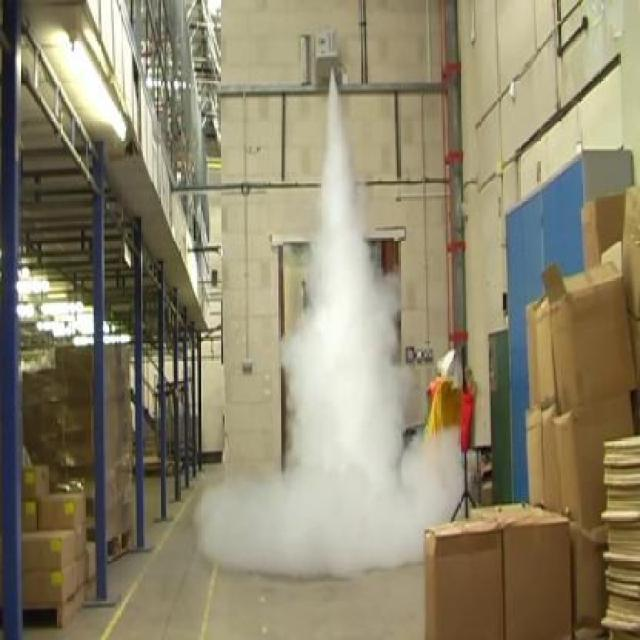fire: (278, 102, 413, 460), (186, 423, 483, 583)
